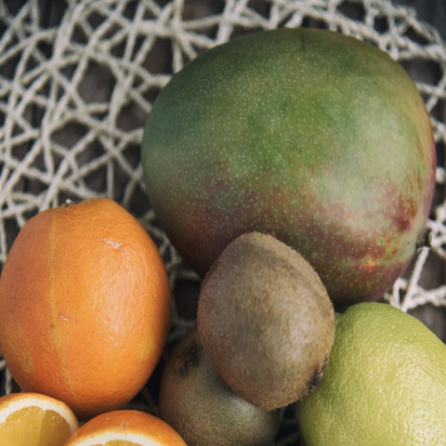kiwi: (109, 22, 446, 302), (198, 224, 333, 412)
orange: (0, 190, 176, 409)
